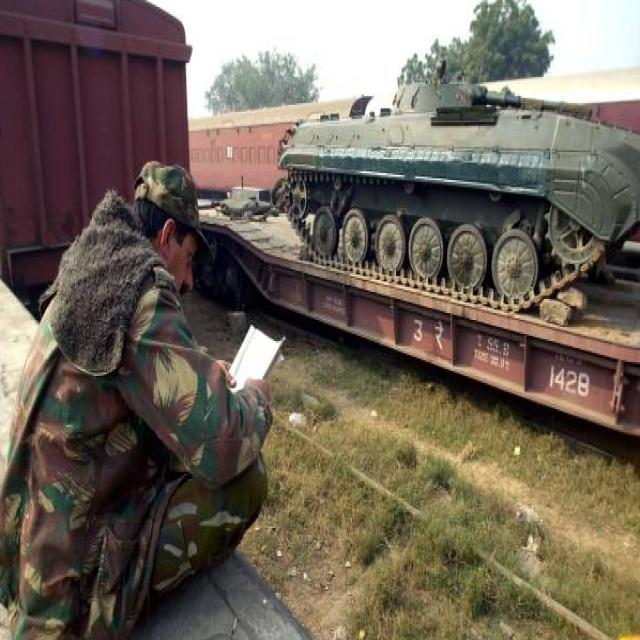soldier: (0, 161, 283, 640)
